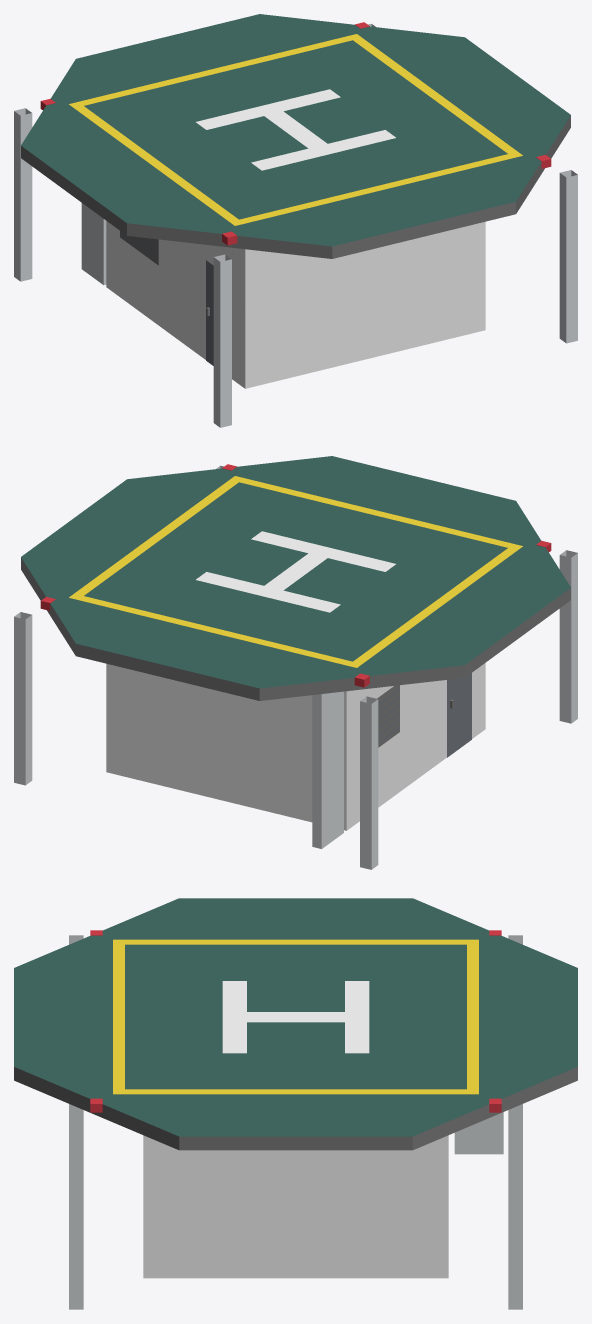
File: roofprop_close.fbx
3 renders of one model, top to bottom at view 1: azimuth 30°, elevation 25°; view 2: azimuth 150°, elevation 25°; view 3: azimuth 270°, elevation 25°, orthographic. The views are drawn at different scales.
Visible parts, largest first — view 1: a2007/250/roofprop_close; view 2: a2007/250/roofprop_close; view 3: a2007/250/roofprop_close.
Part boxes in pixels (box(x1,y1,x2,y2)): a2007/250/roofprop_close: box(14, 14, 577, 427); a2007/250/roofprop_close: box(14, 456, 577, 869); a2007/250/roofprop_close: box(14, 898, 577, 1309).
Bounding box in the file's own units: 9.24 × 3.56 × 9.24.
